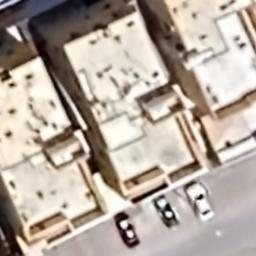sedan: (113, 210, 142, 250), (187, 184, 217, 222), (154, 196, 180, 230)
